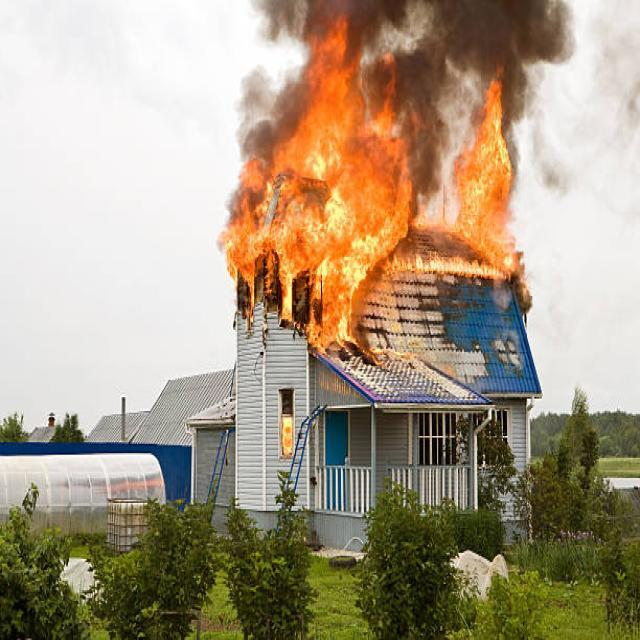Fire: (222, 24, 409, 353), (451, 71, 522, 270)
Smoke: (388, 0, 590, 208), (253, 0, 402, 52)
